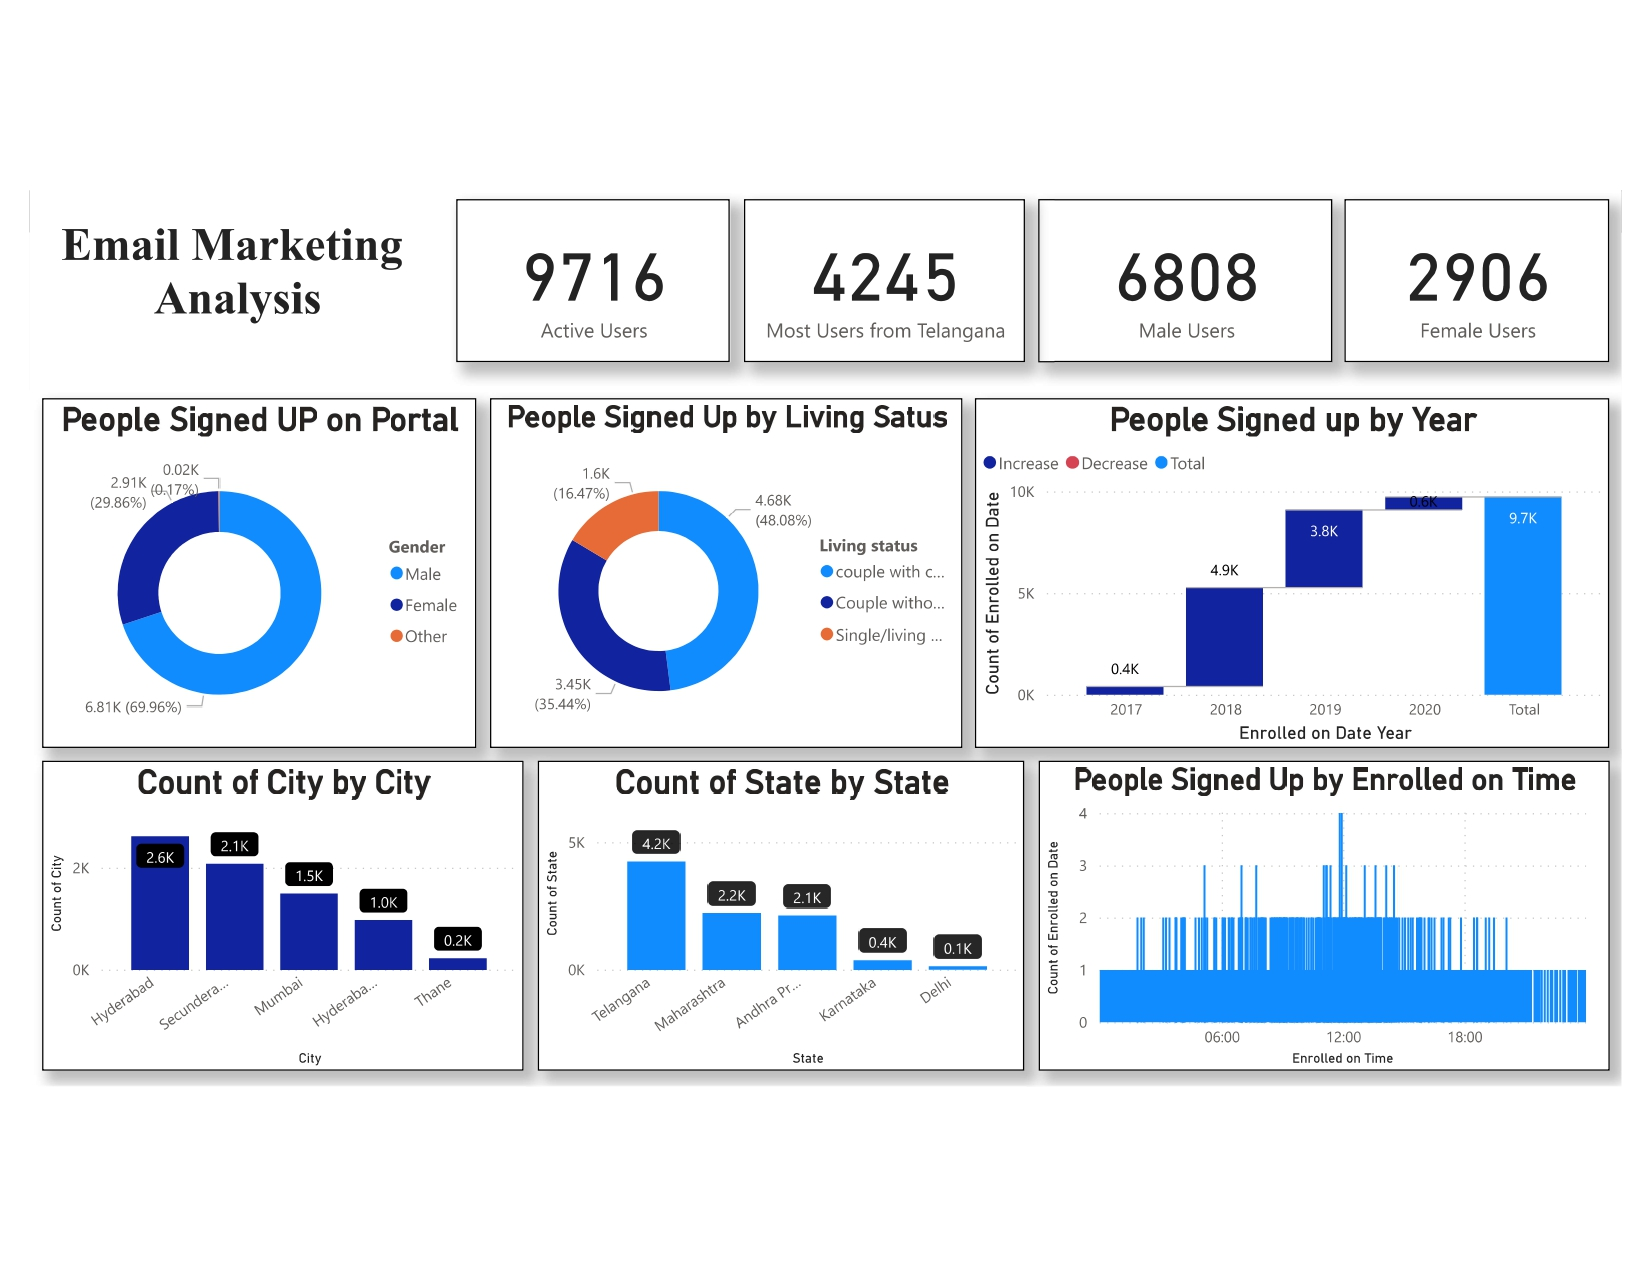

This screenshot's page, from the dashboard's own definition file:
{"tool":"powerbi","page":{"name":"Page 4","canvas":[1280,720],"ordinal":3},"visuals":[{"type":"textbox","box":[10,0,314.3,147.1],"z":0},{"type":"card","title":"Active Users","fields":{"Values":["CountNonNull(TBL_CustomerProfileData.Status)"]},"box":[342.9,7.1,220,131.4],"z":1},{"type":"card","title":"Male Users","fields":{"Values":["CountNonNull(TBL_CustomerProfileData.Gender)"]},"box":[811.4,7.1,235.7,131.4],"z":2},{"type":"card","title":"Female Users","fields":{"Values":["CountNonNull(TBL_CustomerProfileData.Gender)"]},"box":[1057.1,7.1,212.9,131.4],"z":3},{"type":"card","title":"Most Users from Telangana","fields":{"Values":["CountNonNull(TBL_CustomerProfileData.State)"]},"box":[574.3,7.1,225.7,131.4],"z":4},{"type":"donutChart","title":"People Signed UP on Portal","fields":{"Category":["TBL_CustomerProfileData.Gender"],"Y":["CountNonNull(TBL_CustomerProfileData.Gender)"]},"box":[10,167.1,348.6,281.4],"z":5},{"type":"donutChart","title":"People Signed Up by Living Satus","fields":{"Category":["TBL_CustomerProfileData.Living status"],"Y":["CountNonNull(TBL_CustomerProfileData.Living status)"]},"box":[370,167.1,380,281.4],"z":6},{"type":"waterfallChart","title":"People Signed up by Year","fields":{"Category":["TBL_CustomerProfileData.Enrolled on Date.Variation.Date Hierarchy.Year","TBL_CustomerProfileData.Enrolled on Date.Variation.Date Hierarchy.Quarter","TBL_CustomerProfileData.Enrolled on Date.Variation.Date Hierarchy.Month","TBL_CustomerProfileData.Enrolled on Date.Variation.Date Hierarchy.Day"],"Y":["CountNonNull(TBL_CustomerProfileData.Enrolled on Date)"]},"box":[760,167.1,510,281.4],"z":7},{"type":"columnChart","fields":{"Category":["TBL_CustomerProfileData.City"],"Y":["CountNonNull(TBL_CustomerProfileData.City)"]},"box":[10,458.6,387.1,248.6],"z":8},{"type":"columnChart","fields":{"Category":["TBL_CustomerProfileData.State"],"Y":["CountNonNull(TBL_CustomerProfileData.State)"]},"box":[408.6,458.6,391.4,248.6],"z":9},{"type":"clusteredColumnChart","title":"People Signed Up by Enrolled on  Time","fields":{"Category":["TBL_CustomerProfileData.Enrolled on Time"],"Y":["CountNonNull(TBL_CustomerProfileData.Enrolled on Date)"]},"box":[811.4,458.6,458.6,248.6],"z":10}]}

Visuals, with their boxes on the page's 1280x720 design canvas (x1, y1, x2, y2). These are canvas units, not pixel positions in the 1650x1275 screenshot, which may show the page scaled, cropped or inside an application window:
textbox: {"x1": 10, "y1": 0, "x2": 324, "y2": 147}
"Active Users" card: {"x1": 343, "y1": 7, "x2": 563, "y2": 138}
"Male Users" card: {"x1": 811, "y1": 7, "x2": 1047, "y2": 138}
"Female Users" card: {"x1": 1057, "y1": 7, "x2": 1270, "y2": 138}
"Most Users from Telangana" card: {"x1": 574, "y1": 7, "x2": 800, "y2": 138}
"People Signed UP on Portal" donutChart: {"x1": 10, "y1": 167, "x2": 359, "y2": 448}
"People Signed Up by Living Satus" donutChart: {"x1": 370, "y1": 167, "x2": 750, "y2": 448}
"People Signed up by Year" waterfallChart: {"x1": 760, "y1": 167, "x2": 1270, "y2": 448}
columnChart - TBL_CustomerProfileData.City x CountNonNull(TBL_CustomerProfileData.City): {"x1": 10, "y1": 459, "x2": 397, "y2": 707}
columnChart - TBL_CustomerProfileData.State x CountNonNull(TBL_CustomerProfileData.State): {"x1": 409, "y1": 459, "x2": 800, "y2": 707}
"People Signed Up by Enrolled on  Time" clusteredColumnChart: {"x1": 811, "y1": 459, "x2": 1270, "y2": 707}
